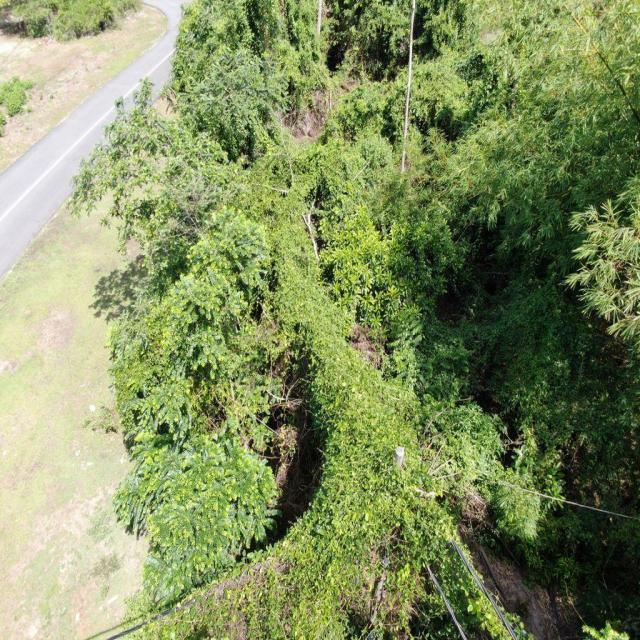critical vegetation: (210, 249, 502, 632)
